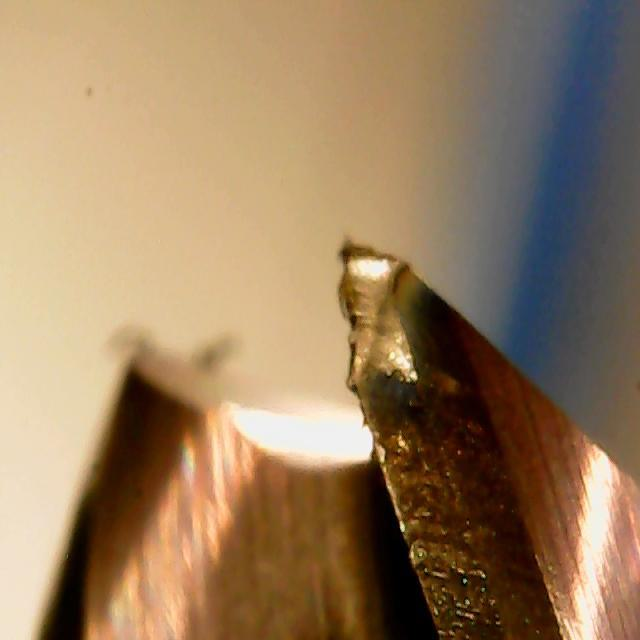Tool-wear-class-2: (331, 233, 463, 588)
